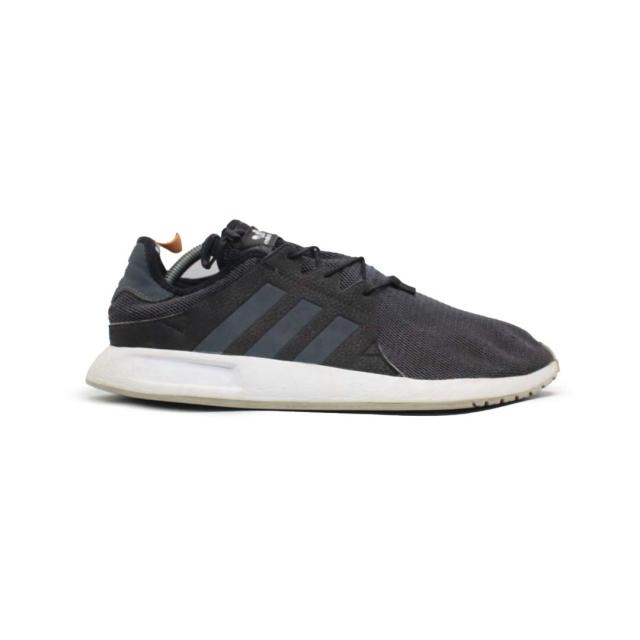heel: (107, 237, 174, 350)
midsole: (85, 344, 561, 413)
uppersole: (170, 218, 553, 379)
